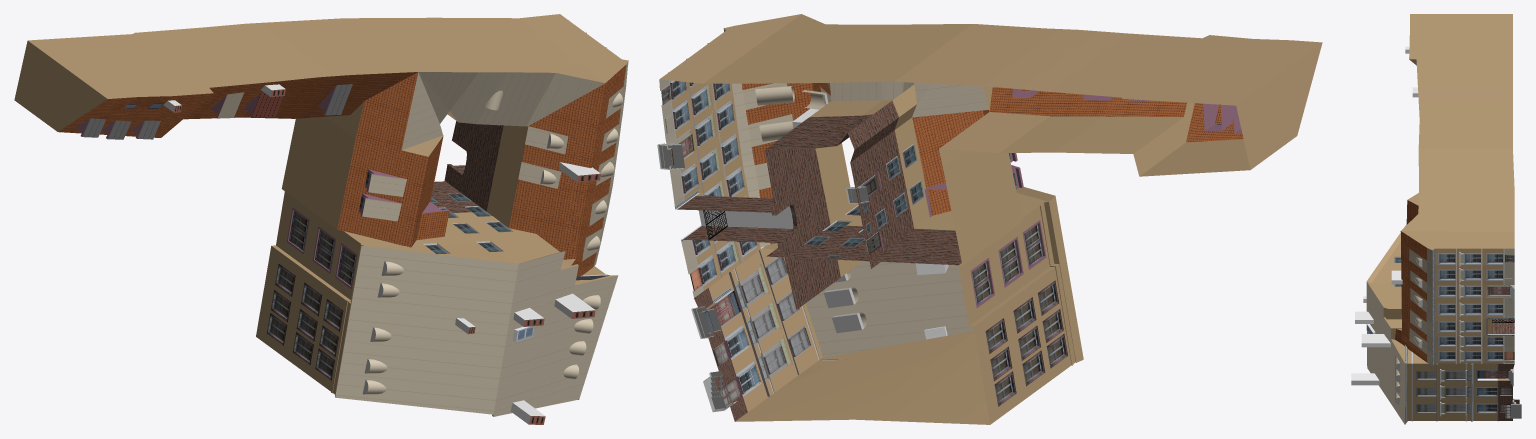
Rendered from Vene_19.obj.
The picture shows the model from 3 angles, left to right: view 1: azimuth 30°, elevation 25°; view 2: azimuth 150°, elevation 25°; view 3: azimuth 270°, elevation 25°; orthographic projection. The views are drawn at different scales.
Visible parts, largest first — view 1: polySurface10; view 2: polySurface10; view 3: polySurface10.
Part boxes in pixels (x1,y1,x2,y2): polySurface10: (14,14,628,424); polySurface10: (657,14,1322,424); polySurface10: (1351,14,1521,424).
Size of the model in its own units: 53.63 by 38.28 by 22.31.
